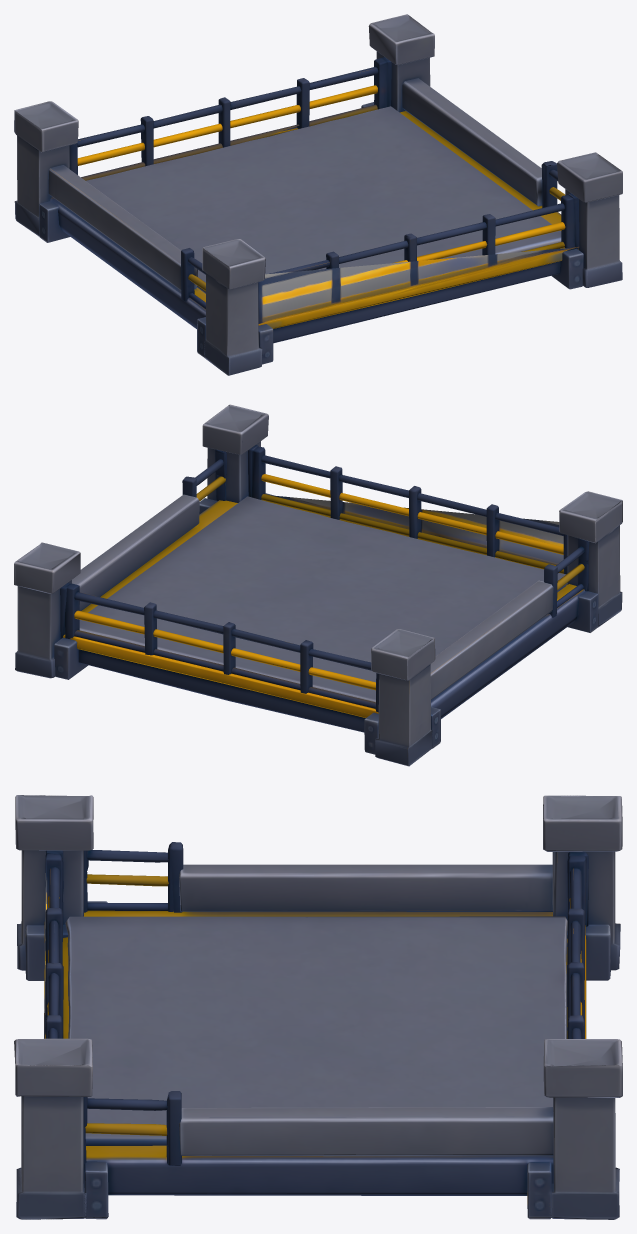
The model's file is bridge.glb.
3 renders of one model, top to bottom at view 1: azimuth 30°, elevation 25°; view 2: azimuth 150°, elevation 25°; view 3: azimuth 270°, elevation 25°, orthographic. The views are drawn at different scales.
Visible parts, largest first — view 1: geometry_0; view 2: geometry_0; view 3: geometry_0.
Boxes of the visible parts, <box> form: geometry_0: <box>14,14,622,375</box>; geometry_0: <box>14,404,622,766</box>; geometry_0: <box>14,795,622,1219</box>.
Bounding box in the file's own units: 1 × 0.2701 × 0.9557.
Materials: 1 (1 with a texture image).
